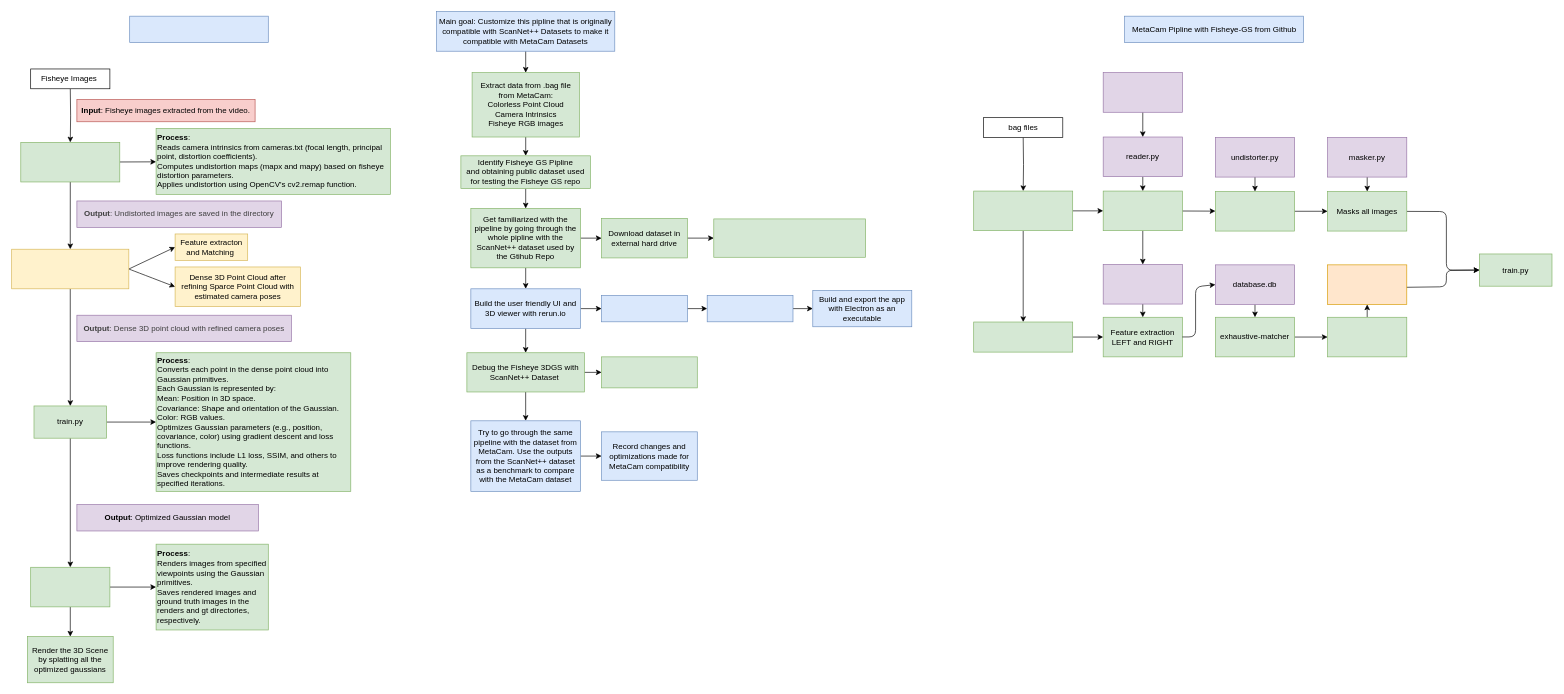
Some shapes in this 1564 by 694 pixel diagram are drawn without their labels. The centre of each missing label's shape, as x and y in pixels:
"Build UI with React" goes at point 644,308.
"calib.py" goes at point 1142,92.
"calibration.json" goes at point 1142,284.
"cameras.txt images.txt point3d.txt" goes at point 1367,284.
"convert.py" goes at point 1023,210.
"External step: SfM Refinement with COLMAP" goes at point 70,269.
"Extracts Images, IMU, info, and lidar" goes at point 1142,210.
"Find the dataset used with the path: liaozimu/data/scannet/0a5c013435/dslr" goes at point 789,237.
"Integrate rerun.io" goes at point 750,308.
"mapper" goes at point 1367,337.
"Pipline with Fisheye-GS from Github" goes at point 198,29.
"prepare_scannetpp.py" goes at point 70,162.
"Read the Fisheye 3DGS paper for benchmarking" goes at point 649,372.
"render.py" goes at point 70,587.
"SfM.sh" goes at point 1023,336.
"Undistorts images (only keeps k1)" goes at point 1255,211.
